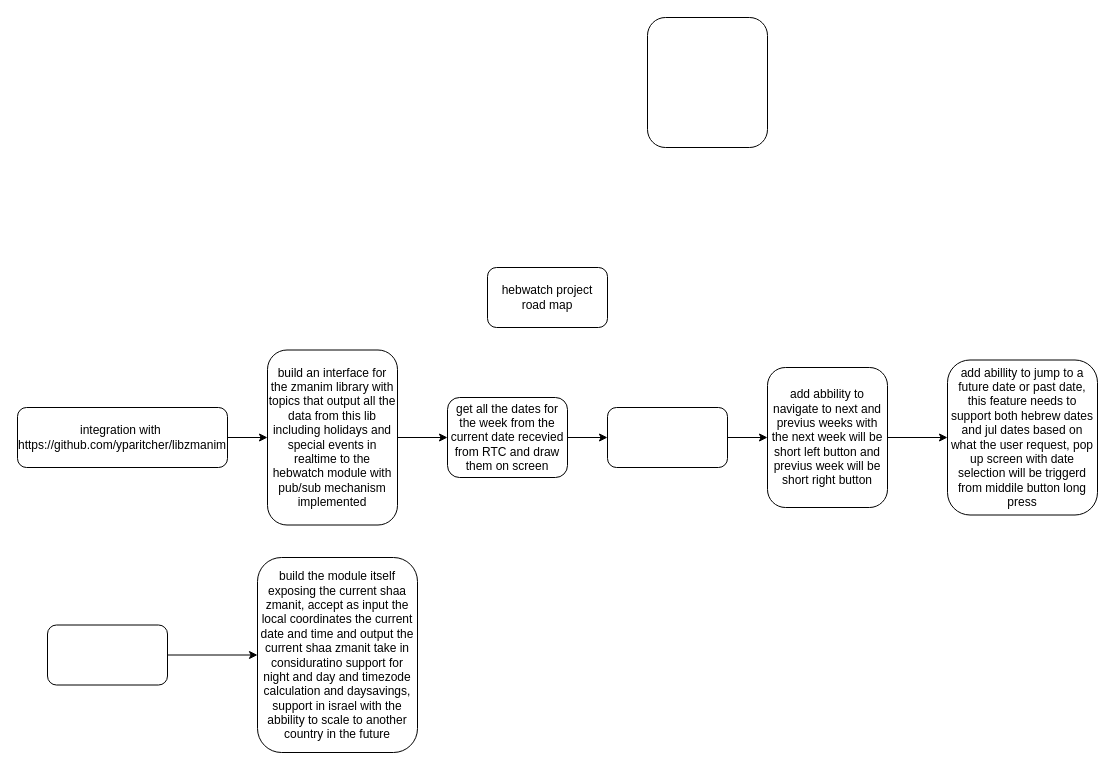
Some shapes in this 1115 by 770 pixel diagram are drawn without their labels. The centre of each missing label's shape, as x and y in pixels:
build an interface for hebwatch part - shaa zmanit: (x=107, y=654)
get all the hebrew zmanim specified in the screen and draw them: (x=667, y=437)
keep modules seperate with high cohishion and loose copling: (x=707, y=82)
